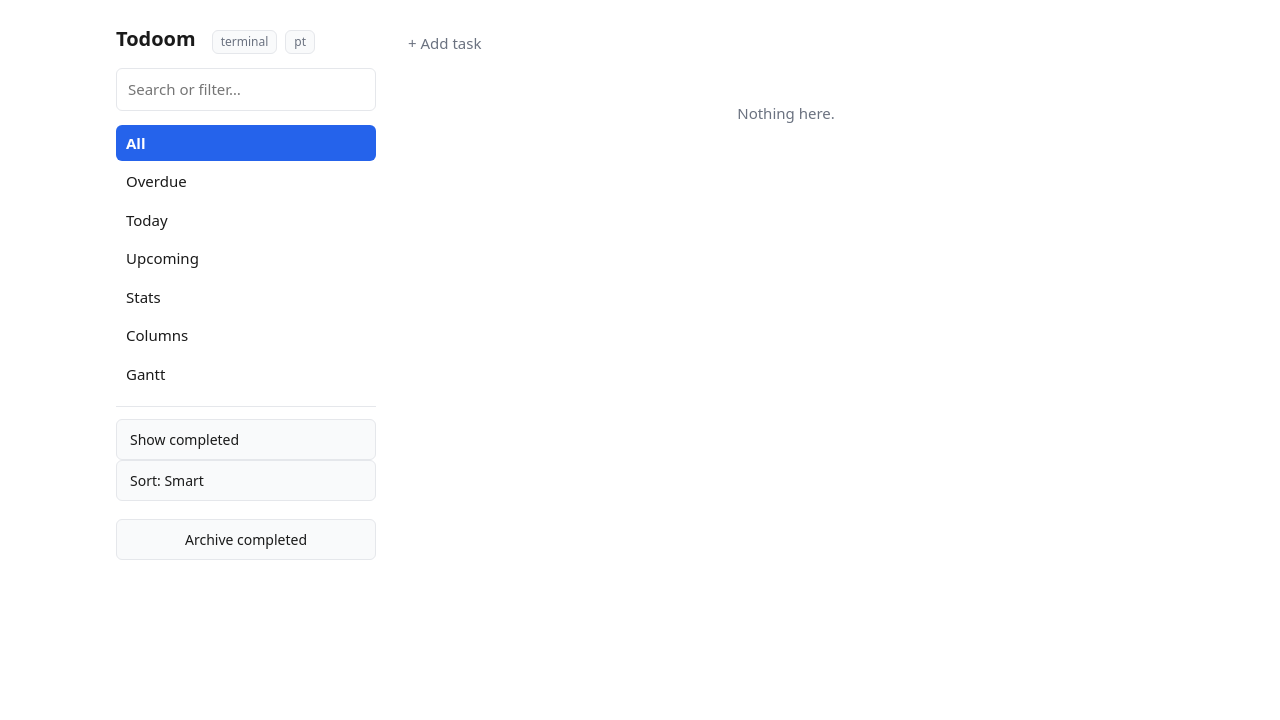
Test: task description › adds the description typed in the composer
This screenshot has width=1280, height=720.
Click the button with class "add-task" at (445, 43), box [408,24,1164,62]
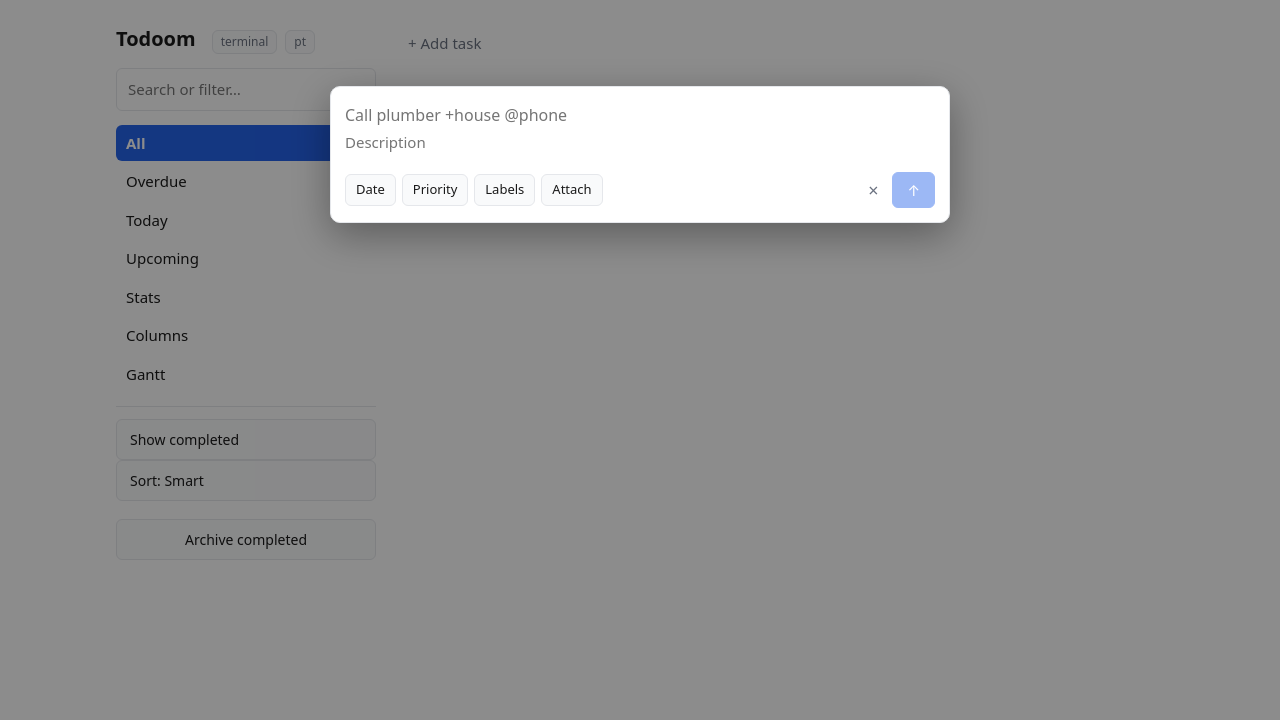
Type "Call plumber" into the field with class "add-input" at (640, 115), box [345,101,935,129]
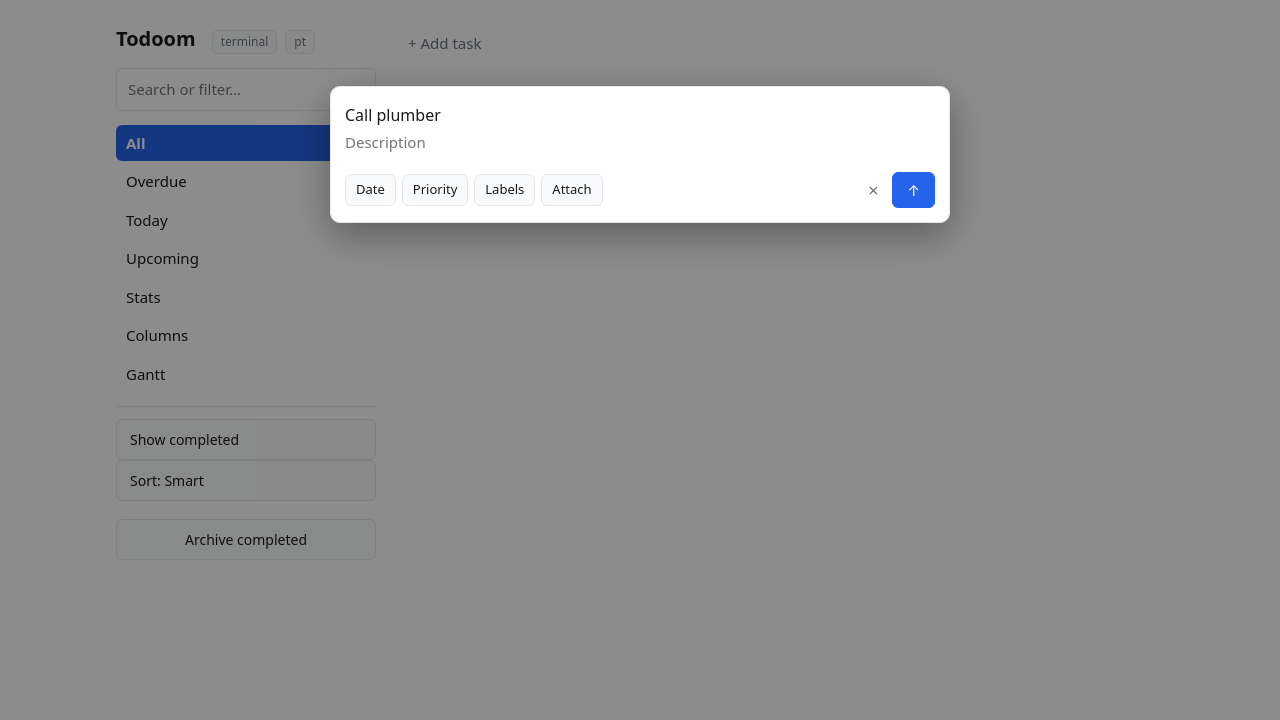
Type "Ask about the boiler" into the field with class "add-description" at (640, 145), box [345,129,935,160]
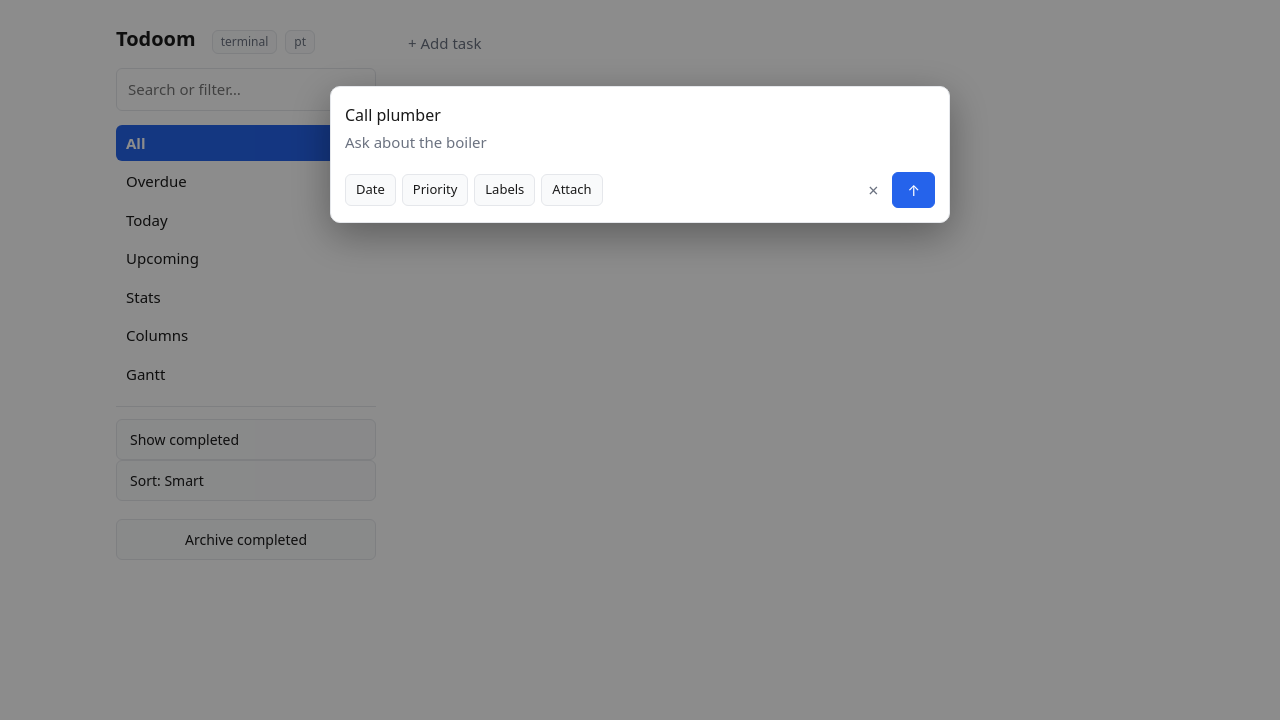
Submit the dialog with class "modal", box [330,86,950,223]
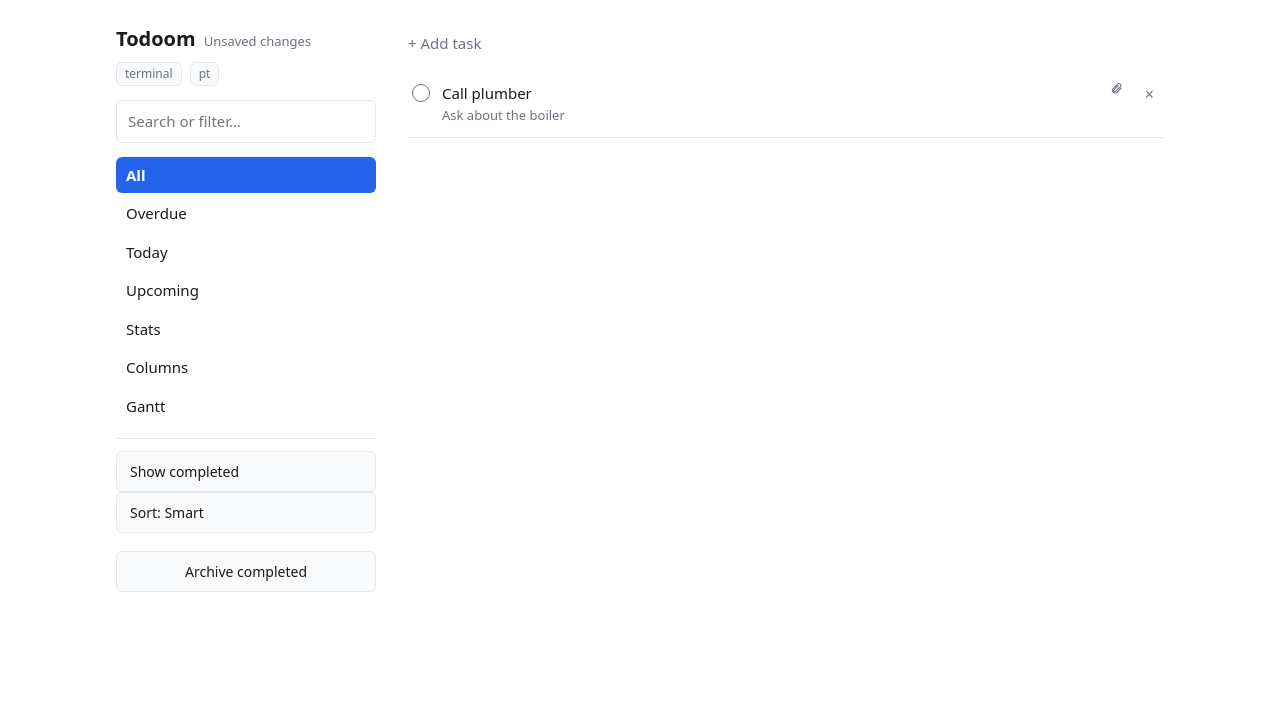
Result: the text "Ask about the boiler" is shown at [442,106,565,124]
